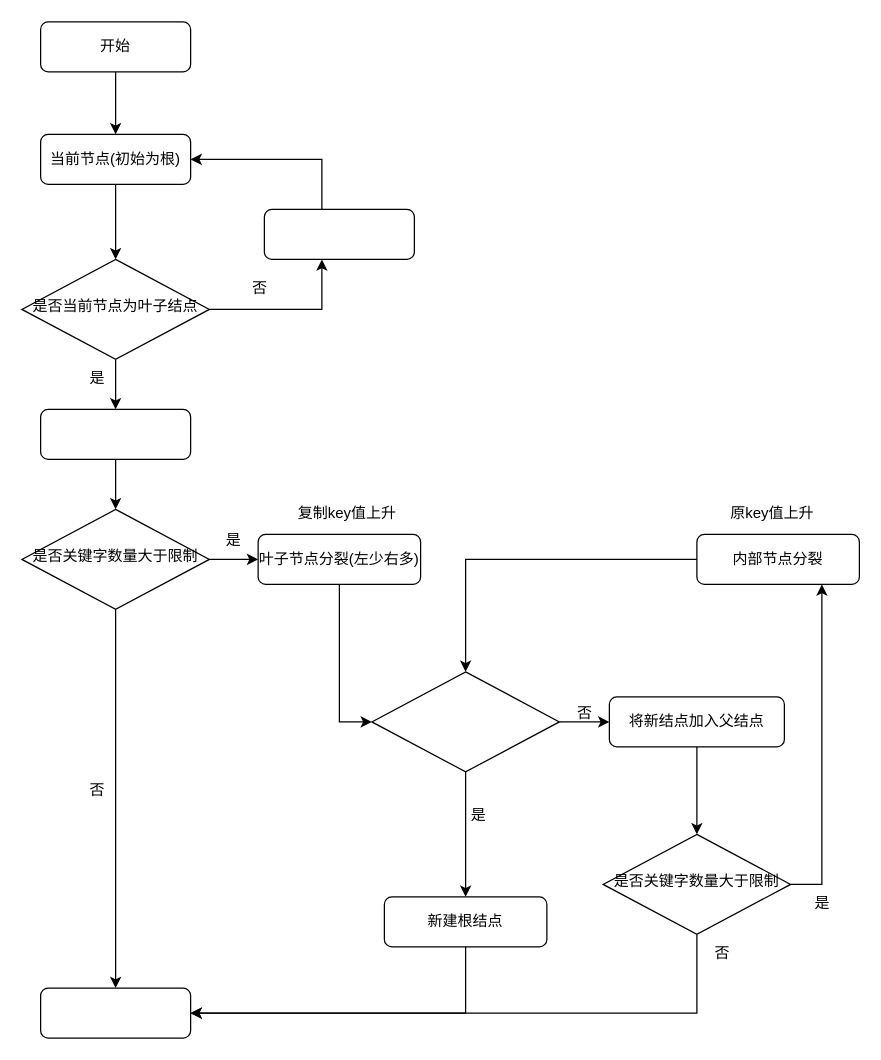
Image size: 881x1060. Some labels were removed from this diagram. The box of each missing label's shape, as (x1, y1, x2, y2) in pixels:
二分查找,找到对应区间,替换当前节点: (263, 208, 414, 259)
在叶子结点中插入关键字: (39, 408, 191, 459)
是否结点的父亲为空: (371, 671, 559, 772)
结束: (39, 987, 191, 1038)
